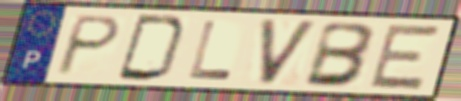B: (301, 20, 379, 89)
D: (114, 12, 191, 83)
E: (365, 22, 444, 92)
L: (185, 19, 235, 81)
P: (52, 13, 125, 78)
V: (257, 17, 321, 88)
